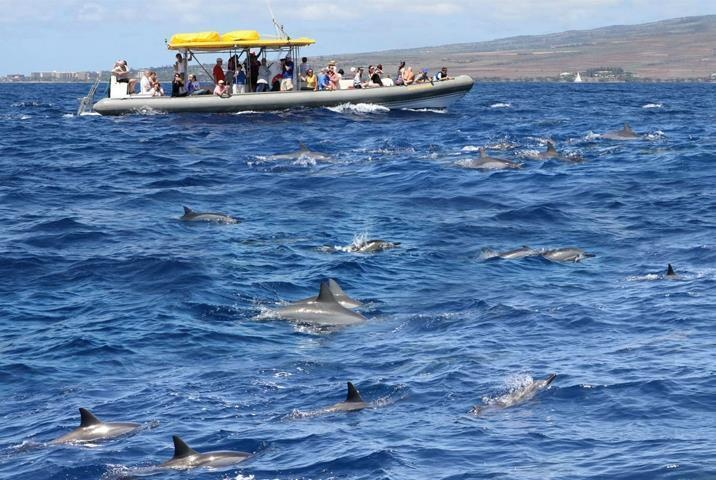fish: (245, 279, 372, 337), (36, 407, 145, 459), (466, 369, 559, 420), (156, 435, 258, 476), (295, 382, 388, 424), (174, 204, 245, 227)
otherboat: (88, 27, 481, 125)
